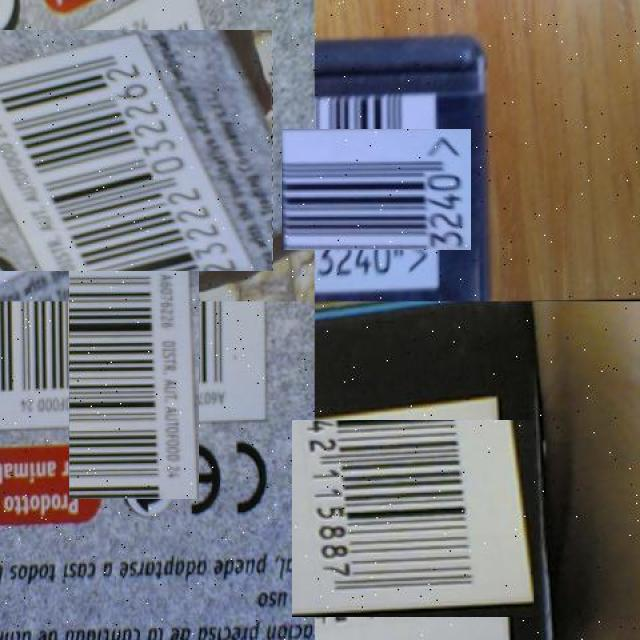Barcode: (0, 15, 258, 287), (303, 409, 524, 628), (34, 267, 233, 465), (298, 112, 454, 267)
